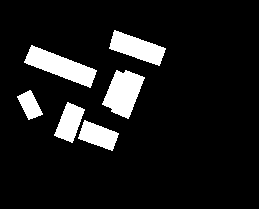parkingspot: (24, 45, 96, 87), (109, 30, 165, 65), (111, 70, 144, 118), (54, 102, 84, 142), (78, 120, 118, 150), (102, 70, 125, 108), (17, 90, 42, 119)
